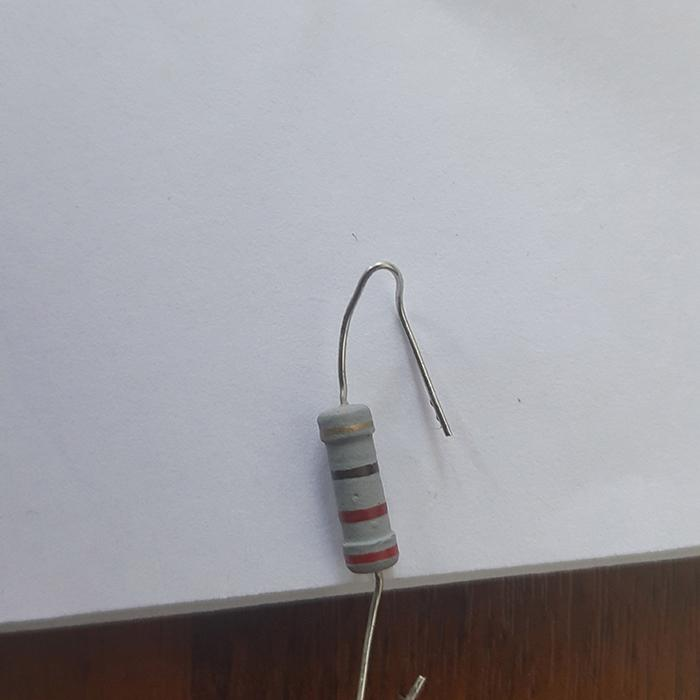resistor: (316, 401, 399, 574)
